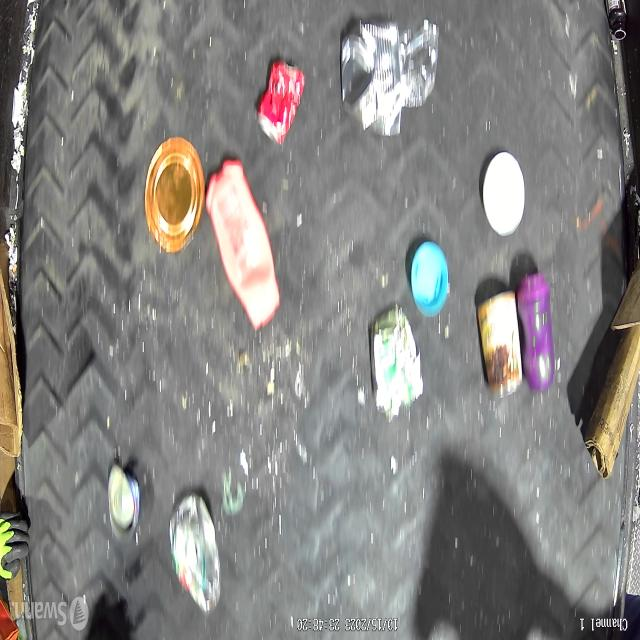can: (339, 18, 438, 136), (144, 136, 205, 255), (477, 289, 522, 399), (256, 55, 304, 146), (108, 464, 140, 543)
non_white_jug: (205, 157, 281, 330)
